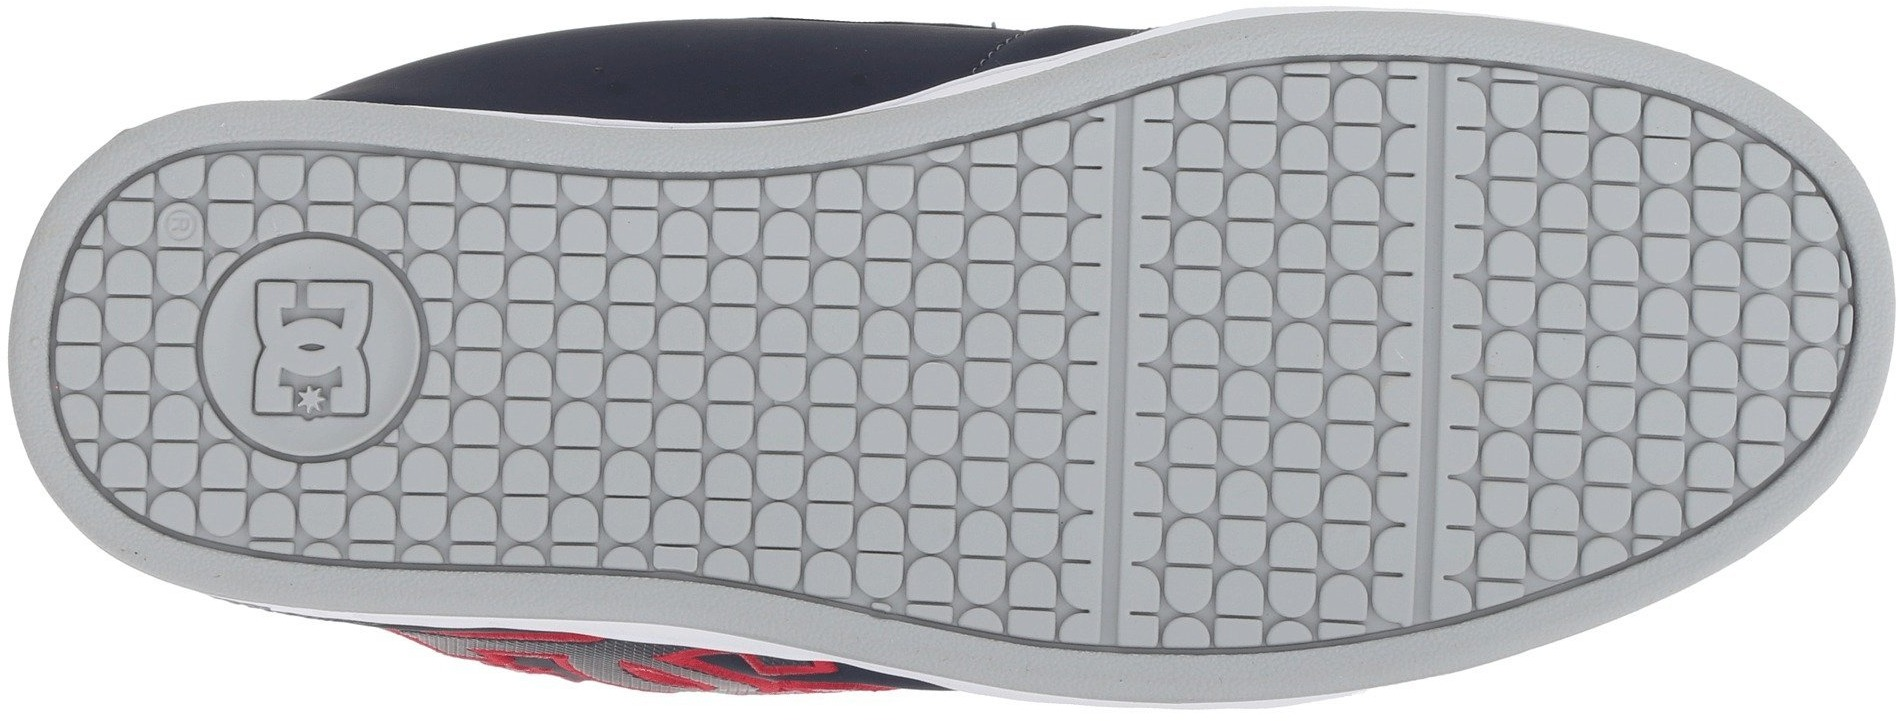circle: (182, 221, 450, 478)
quad: (681, 179, 1112, 589), (1445, 156, 1784, 479), (1134, 94, 1430, 377), (1118, 360, 1417, 625), (447, 252, 685, 498)
text: (230, 266, 397, 436)
